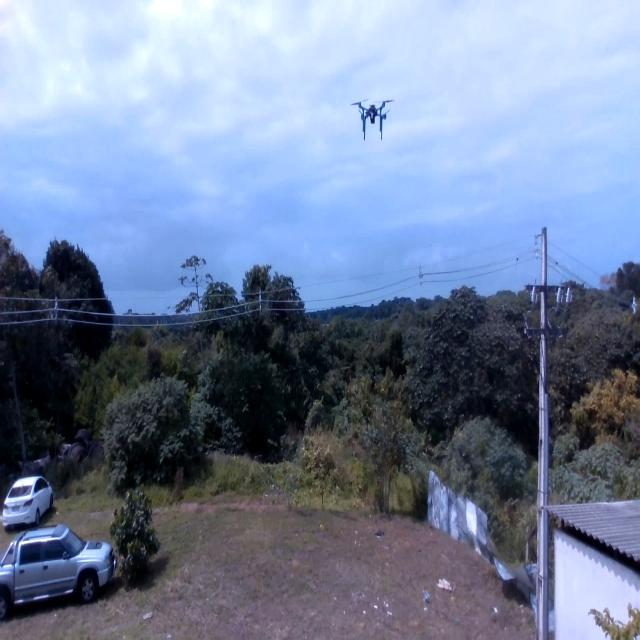-uav-: (348, 81, 398, 152)
